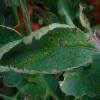Tomato Septoria leaf spot: (1, 19, 99, 98)
